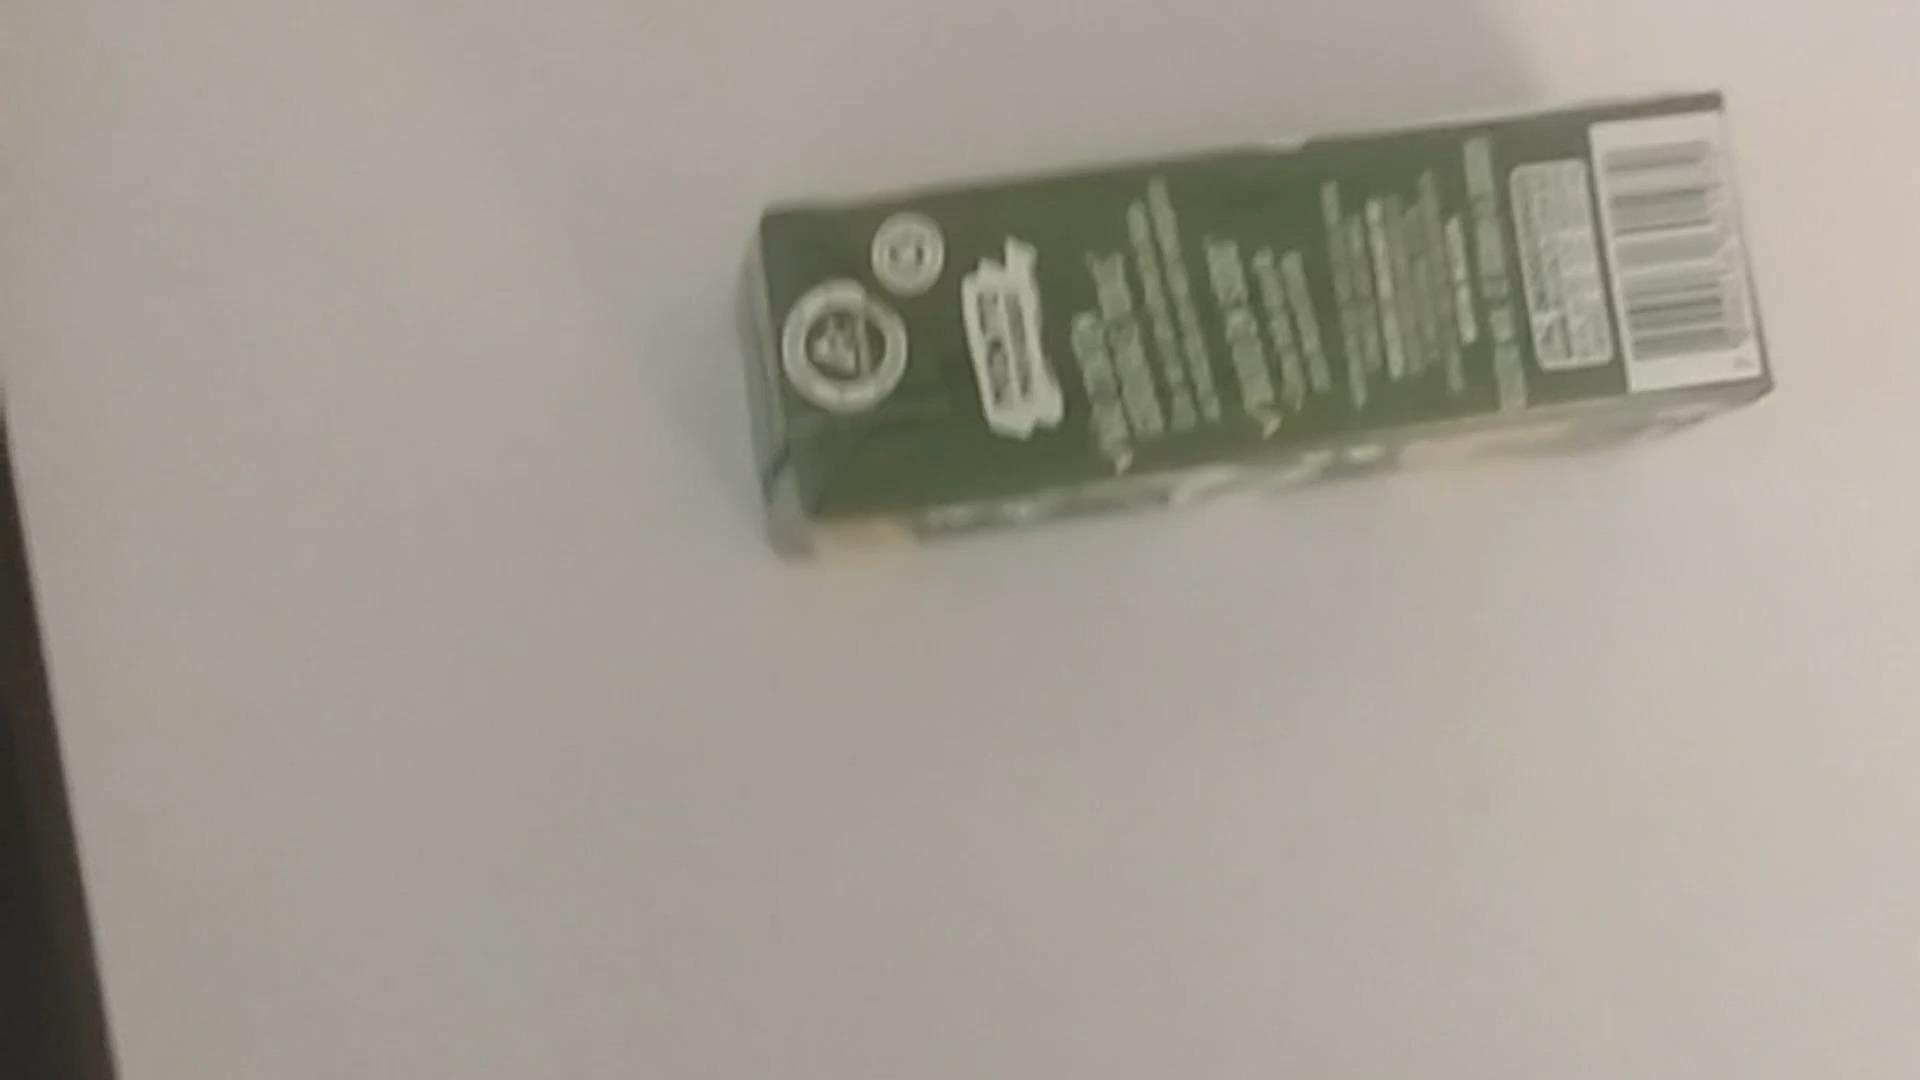coco: (748, 90, 1780, 533)
